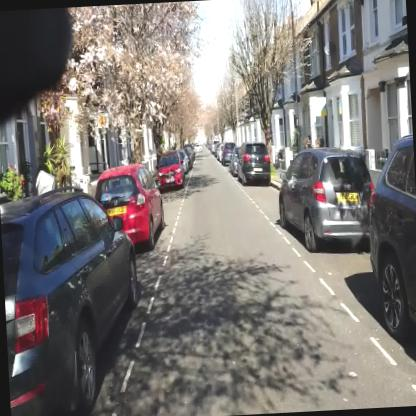car: (0, 183, 146, 415), (362, 129, 415, 368), (274, 146, 376, 252), (92, 161, 165, 253), (235, 140, 271, 186), (156, 150, 184, 190), (229, 145, 242, 177), (219, 142, 236, 165)
